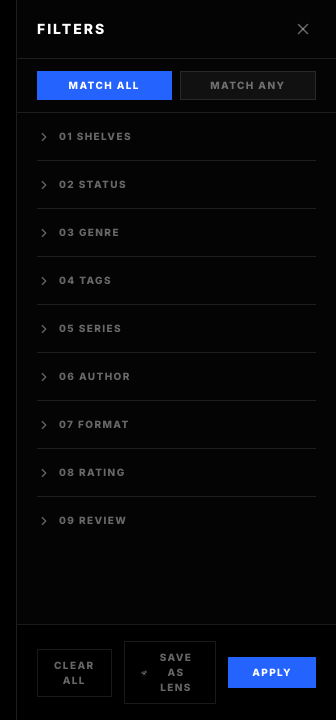
Test: FilterDrawer › includes DNF in the status options
This screenshot has width=336, height=720.
Click the button with test id "accordion-status" at [103, 184], box [37, 177, 316, 192]
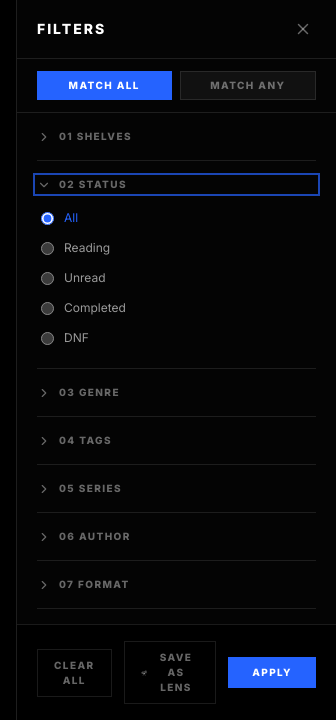
Result: the radio button labelled "DNF" is shown at [41, 332, 54, 344]
